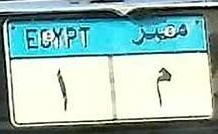1: (52, 67, 71, 113)
meem: (152, 63, 173, 109)
